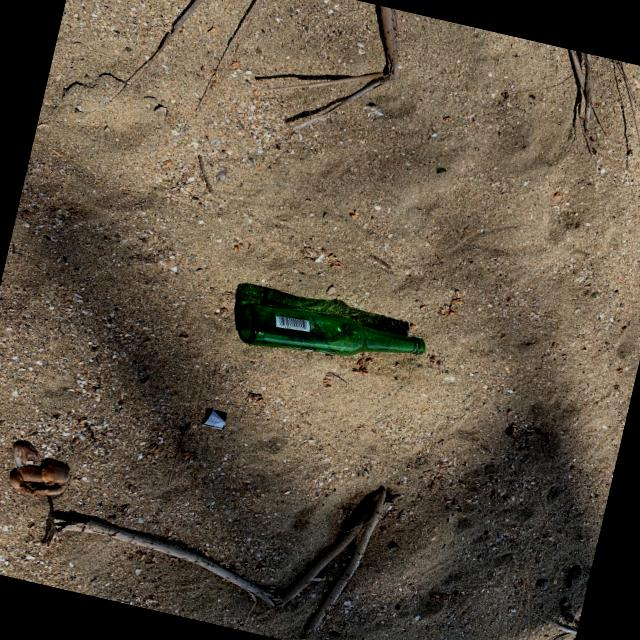Glass bottle: (238, 304, 426, 356)
Unlabeled litter: (203, 409, 225, 429)
